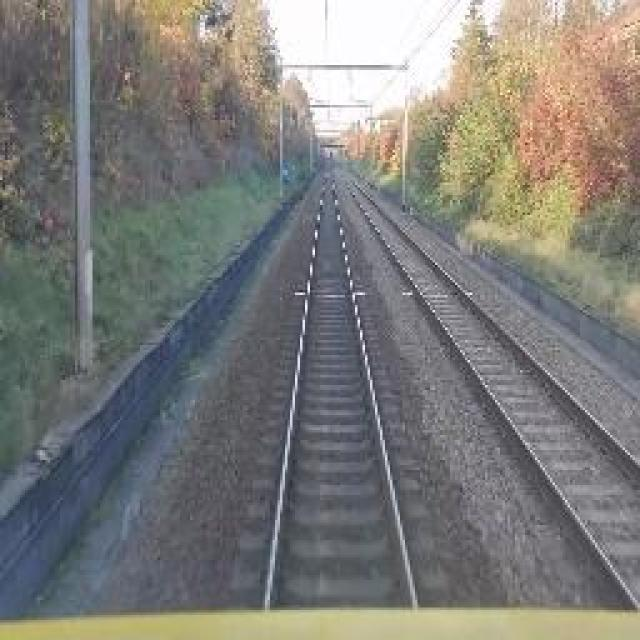rail: (332, 175, 640, 618), (236, 163, 460, 609)
